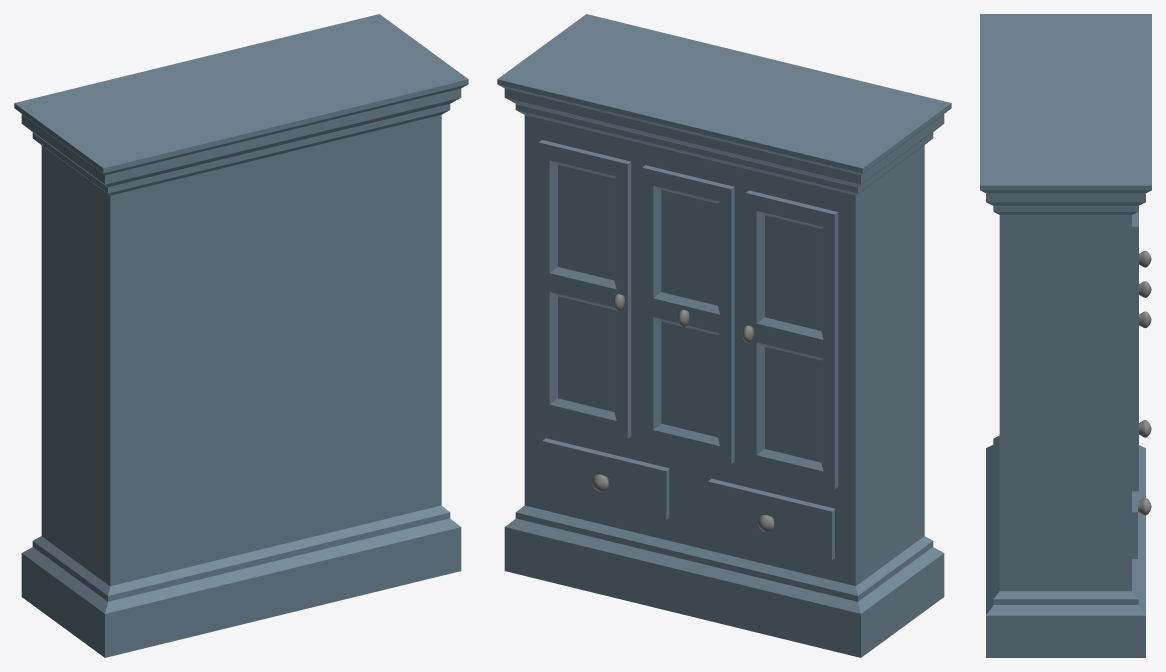
The model's file is Armoire2_4.fbx.
The picture shows the model from 3 angles, left to right: view 1: azimuth 30°, elevation 25°; view 2: azimuth 150°, elevation 25°; view 3: azimuth 270°, elevation 25°; orthographic projection. The views are drawn at different scales.
Parts seen in each view (by area): view 1: pCube2388, pCube2389, pCube2386, pCube2385, pCube2387, pCube2390; view 2: pCube2388, pCube2389, pCube2424, pCube2420, pCube2423, pCube2386, pCube2385, pCube2406, pCube2414, pCube2387, pCube2390; view 3: pCube2388, pCube2389, pCube2386, pCube2385, pCube2387, pCube2420, pCube2390, pCube2406.
Boxes of the visible parts, x1=… form: pCube2388: x1=41, y1=115, x2=441, y2=586; pCube2389: x1=14, y1=14, x2=468, y2=174; pCube2386: x1=21, y1=518, x2=461, y2=657; pCube2385: x1=32, y1=505, x2=450, y2=601; pCube2387: x1=21, y1=88, x2=461, y2=187; pCube2390: x1=32, y1=104, x2=450, y2=195; pCube2388: x1=524, y1=115, x2=924, y2=586; pCube2389: x1=497, y1=14, x2=951, y2=174; pCube2424: x1=745, y1=190, x2=838, y2=489; pCube2420: x1=538, y1=140, x2=631, y2=438; pCube2423: x1=642, y1=165, x2=734, y2=463; pCube2386: x1=504, y1=518, x2=944, y2=657; pCube2385: x1=515, y1=505, x2=933, y2=601; pCube2406: x1=542, y1=438, x2=669, y2=519; pCube2414: x1=708, y1=478, x2=834, y2=559; pCube2387: x1=504, y1=88, x2=944, y2=187; pCube2390: x1=515, y1=104, x2=933, y2=195; pCube2388: x1=999, y1=215, x2=1131, y2=591; pCube2389: x1=980, y1=14, x2=1151, y2=192; pCube2386: x1=986, y1=445, x2=1145, y2=657; pCube2385: x1=993, y1=435, x2=1138, y2=604; pCube2387: x1=986, y1=193, x2=1145, y2=205; pCube2420: x1=1132, y1=206, x2=1138, y2=491; pCube2390: x1=993, y1=206, x2=1138, y2=214; pCube2406: x1=1132, y1=491, x2=1137, y2=558.
Bounding box in the file's own units: 91.48 × 118 × 38.7.
